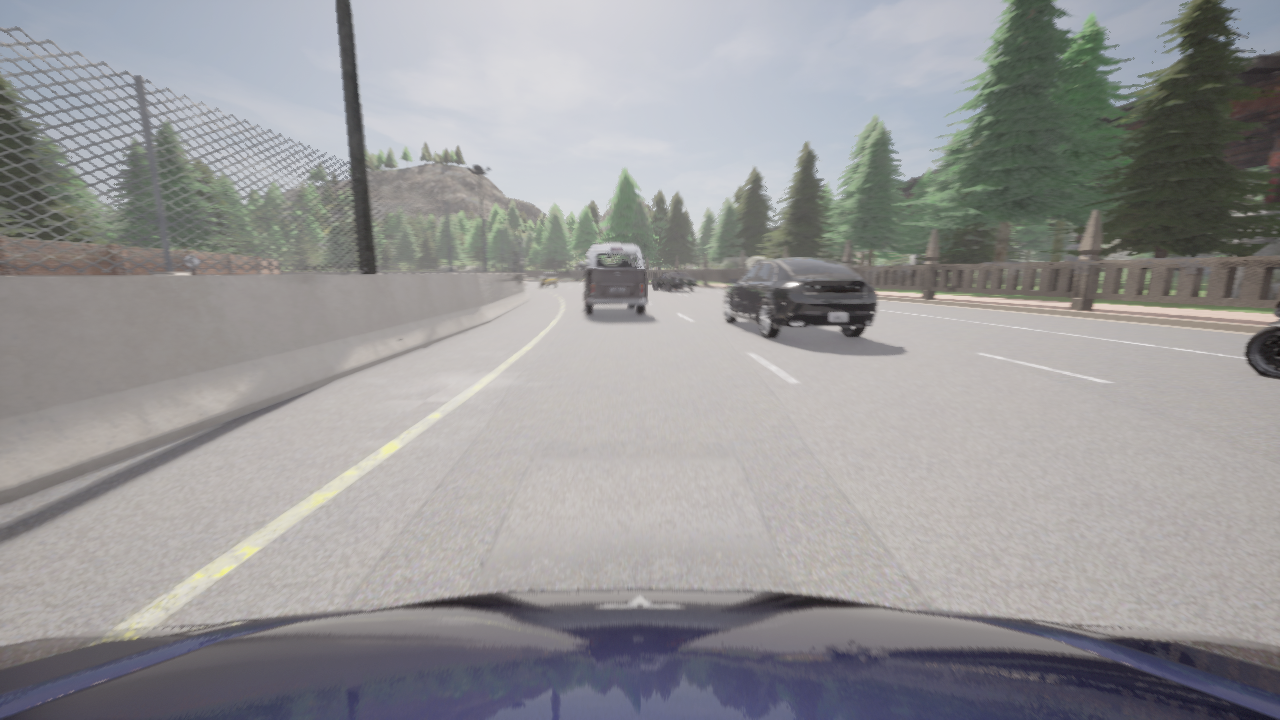cyclist: (0, 588, 1279, 719), (722, 257, 876, 338), (579, 243, 647, 314), (1245, 300, 1279, 378), (652, 272, 697, 290), (539, 271, 557, 287)
